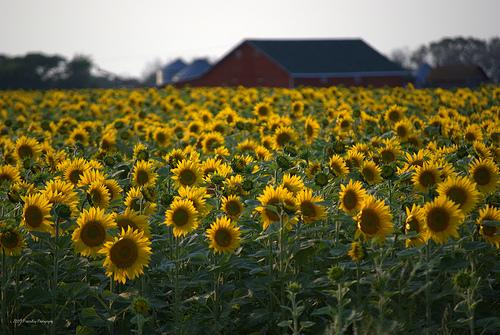sunflower: (104, 225, 150, 282), (73, 208, 120, 263), (420, 197, 464, 244), (256, 185, 296, 229), (354, 198, 393, 241), (439, 174, 478, 216), (164, 196, 199, 239), (21, 192, 54, 236), (206, 215, 241, 255), (169, 158, 208, 192), (470, 157, 500, 199), (296, 189, 327, 224), (411, 160, 442, 192), (479, 203, 500, 248), (129, 162, 161, 189), (64, 159, 89, 187), (269, 126, 298, 149), (199, 132, 226, 155), (88, 181, 110, 209), (218, 196, 244, 219), (360, 160, 383, 185), (330, 153, 350, 180), (302, 117, 319, 147), (15, 139, 38, 157), (383, 105, 403, 125), (255, 102, 271, 120)
